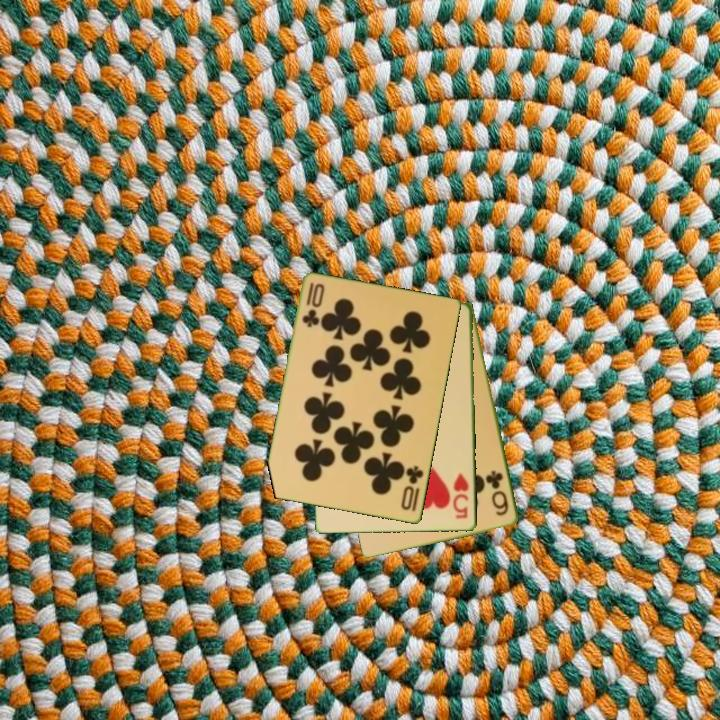10c: (398, 462, 427, 515), (299, 279, 327, 330)
5h: (450, 470, 472, 522)
6c: (484, 467, 512, 519)
